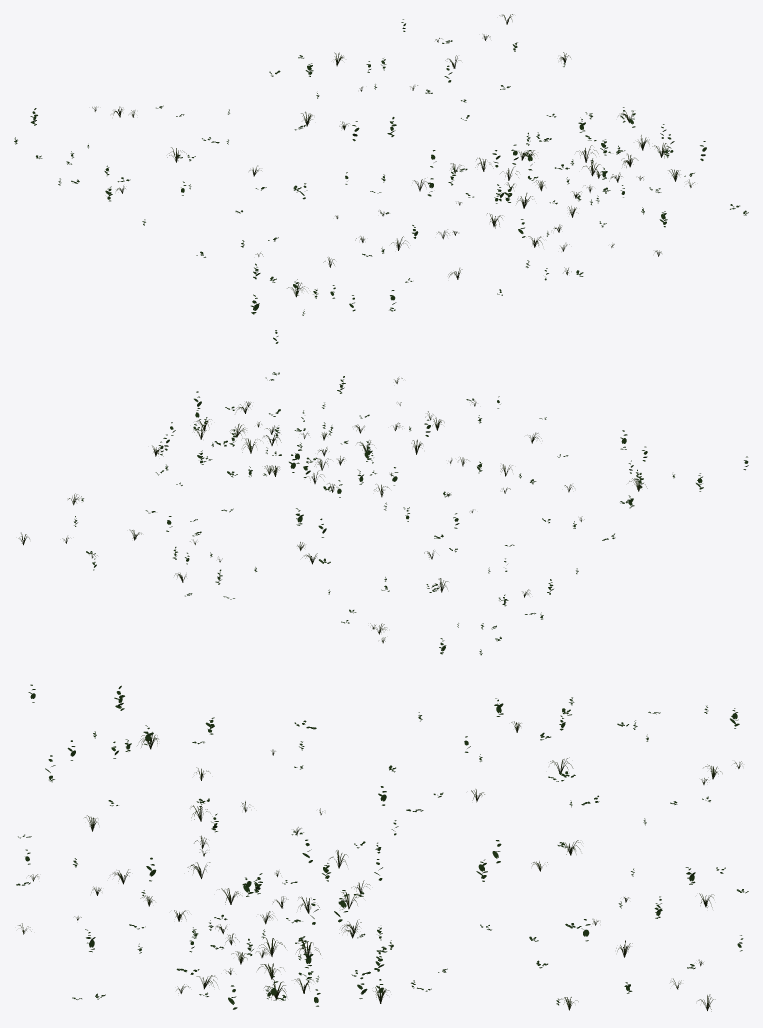
The model's file is weeds_+00-01_foliage.dae.
The picture shows the model from 3 angles, top to bottom: view 1: azimuth 30°, elevation 25°; view 2: azimuth 150°, elevation 25°; view 3: azimuth 270°, elevation 25°; orthographic projection. The views are drawn at different scales.
Visible parts, largest first — view 1: weeds_+00-01_foliage; view 2: weeds_+00-01_foliage; view 3: weeds_+00-01_foliage.
Part boxes in pixels (x1,y1,x2,y2): weeds_+00-01_foliage: [14, 14, 748, 343]; weeds_+00-01_foliage: [18, 372, 748, 655]; weeds_+00-01_foliage: [16, 684, 748, 1011].
Bounding box in the file's own units: 10.04 × 10.03 × 0.4663.
